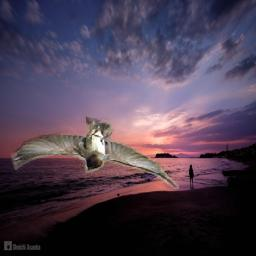Swallow: (11, 117, 180, 190)
